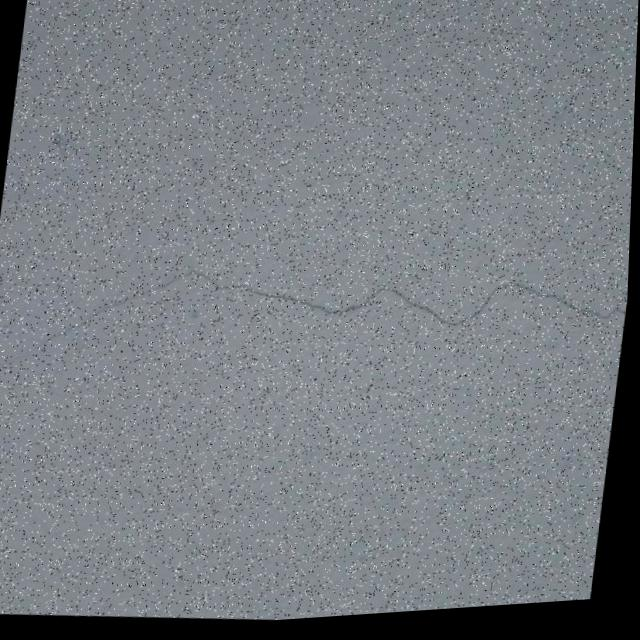Crack: (0, 217, 623, 456)
